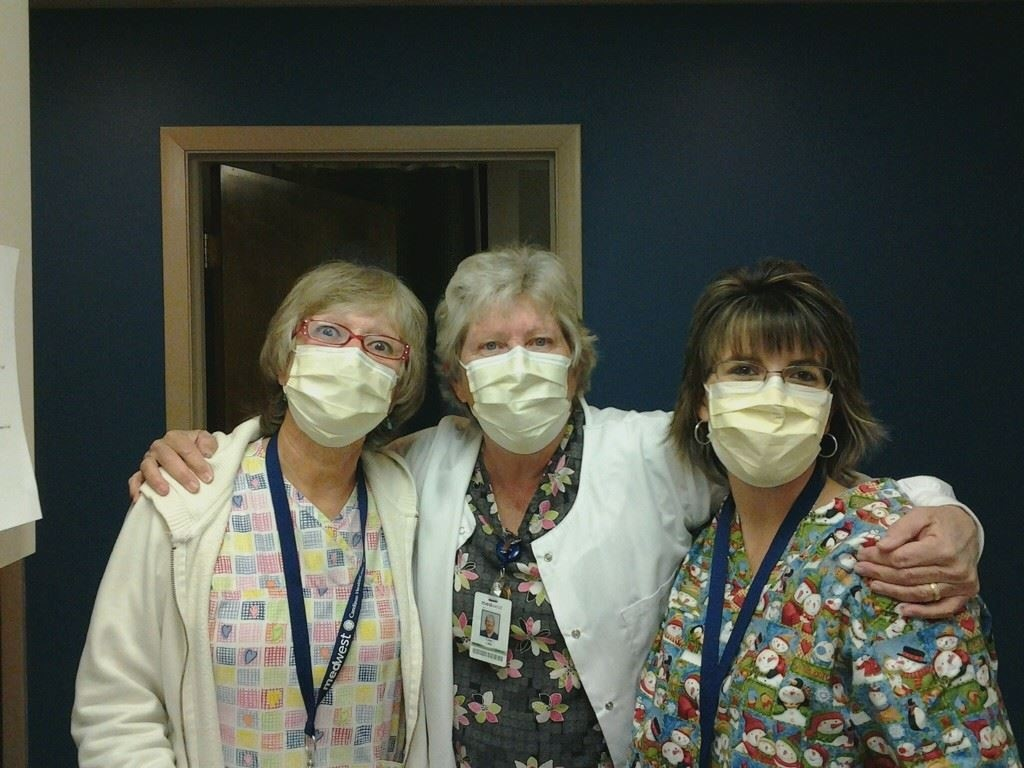face_with_mask: (684, 291, 852, 508), (439, 276, 590, 475), (260, 282, 415, 471)
